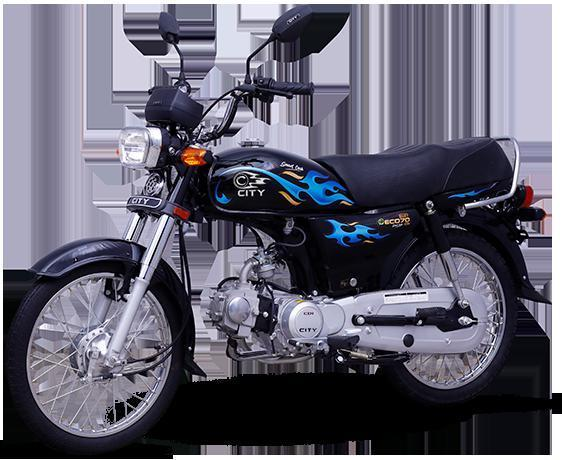motorcycle: (10, 9, 546, 453)
